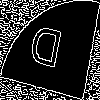D: (25, 24, 65, 78)
